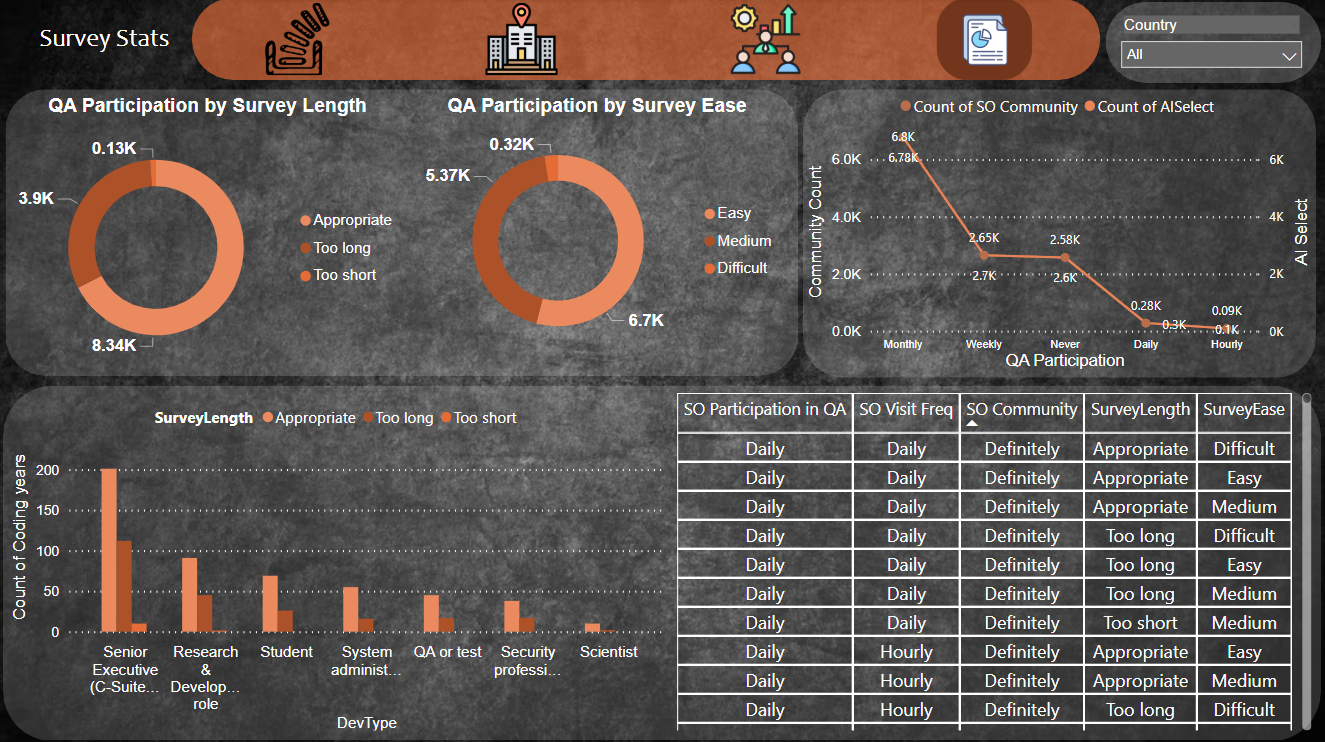

The page's visual inventory and layout, read from the dashboard file:
{"tool":"powerbi","page":{"name":"Survey Stats","canvas":[1280,720],"ordinal":3},"visuals":[{"type":"shape","box":[5,373.3,1271.7,343.3],"z":0},{"type":"shape","box":[1068.3,3.3,208.3,78.3],"z":1000},{"type":"shape","box":[6.7,88.3,765,276.7],"z":2000},{"type":"shape","box":[186.8,0,876.6,79],"z":3000},{"type":"image","box":[465.6,0,79,79],"z":4000},{"type":"image","box":[686.9,0,106.3,79],"z":5000},{"type":"image","box":[905.4,0,92,79],"z":6000},{"type":"image","box":[238.6,0,100.6,79],"z":7000},{"type":"tableEx","fields":{"Values":["survey_results_public.SO Participation in QA","survey_results_public.SO Visit Freq","survey_results_public.SO Community","survey_results_public.SurveyLength","survey_results_public.SurveyEase"]},"box":[648.3,376.7,623.3,335],"z":8000},{"type":"donutChart","title":"QA Participation by Survey Length","fields":{"Category":["survey_results_public.SurveyLength"],"Y":["CountNonNull(survey_results_public.SO Participation in QA)"]},"box":[10,93.3,385,280],"z":9000},{"type":"donutChart","title":"QA Participation by Survey Ease","fields":{"Category":["survey_results_public.SurveyEase"],"Y":["CountNonNull(survey_results_public.SO Participation in QA)"]},"box":[395,93.3,365,266.7],"z":10000},{"type":"clusteredColumnChart","fields":{"Y":["CountNonNull(survey_results_public.Coding years)"],"Category":["survey_results_public.DevType"],"Series":["survey_results_public.SurveyLength"]},"box":[8.3,383.3,640,328.3],"z":11000},{"type":"lineChart","fields":{"Category":["survey_results_public.SO Participation in QA"],"Y":["CountNonNull(survey_results_public.SO Community)"],"Y2":["CountNonNull(survey_results_public.AISelect)"]},"box":[776.7,83.3,495,280],"z":12000},{"type":"shape","box":[776.7,88.3,495,278.3],"z":13000},{"type":"slicer","title":"country Slicer","fields":{"Values":["survey_results_public.Country"]},"box":[1073.3,11.7,195,58.3],"z":14000},{"type":"textbox","box":[35,18.1,168.8,72.4],"z":14001}]}

Visuals, with their boxes in screenshot pixels (x1, y1, x2, y2), scaled from the page's 1280x720 canvas onto the 1325x742 screenshot:
shape: locate(5, 385, 1322, 738)
shape: locate(1106, 3, 1321, 84)
shape: locate(7, 91, 799, 376)
shape: locate(193, 0, 1101, 81)
image: locate(482, 0, 564, 81)
image: locate(711, 0, 821, 81)
image: locate(937, 0, 1032, 81)
image: locate(247, 0, 351, 81)
tableEx - survey_results_public.SO Participation in QA x survey_results_public.SO Visit Freq: locate(671, 388, 1316, 733)
"QA Participation by Survey Length" donutChart: locate(10, 96, 409, 385)
"QA Participation by Survey Ease" donutChart: locate(409, 96, 787, 371)
clusteredColumnChart - CountNonNull(survey_results_public.Coding years) x survey_results_public.DevType: locate(9, 395, 671, 733)
lineChart - survey_results_public.SO Participation in QA x CountNonNull(survey_results_public.SO Community): locate(804, 86, 1316, 374)
shape: locate(804, 91, 1316, 378)
"country Slicer" slicer: locate(1111, 12, 1313, 72)
textbox: locate(36, 19, 211, 93)
